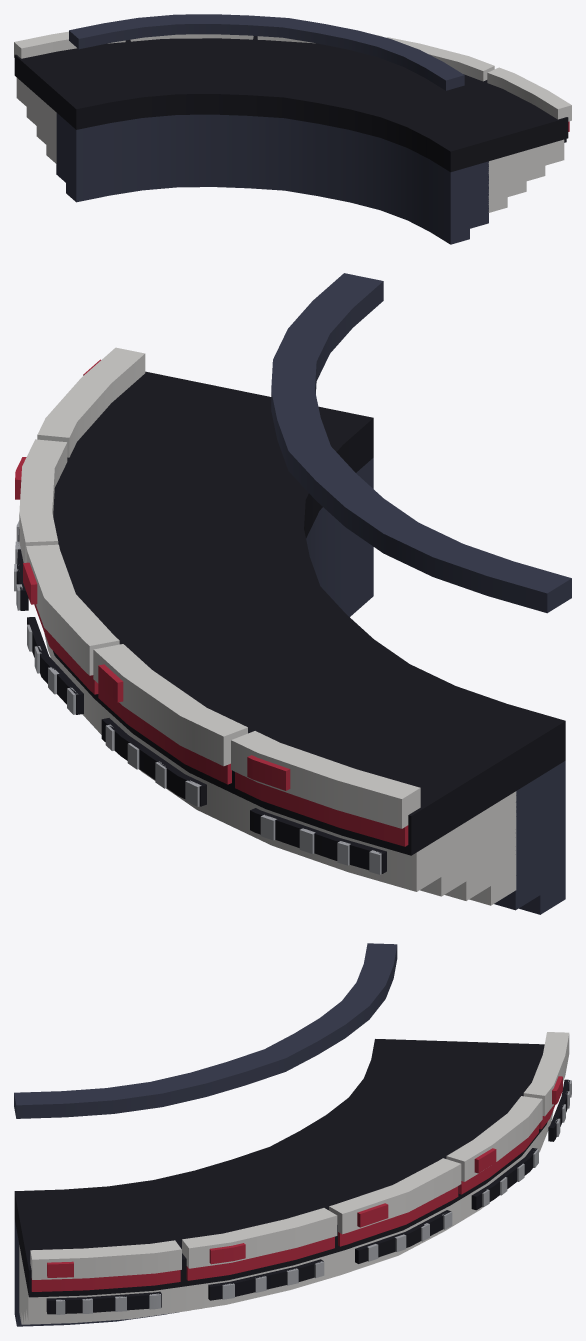
File: canopy.arc3.deck.cut.glb
3 renders of one model, top to bottom at view 1: azimuth 30°, elevation 25°; view 2: azimuth 150°, elevation 25°; view 3: azimuth 270°, elevation 25°, orthographic. The views are drawn at different scales.
Visible parts, largest first — view 1: canopy.arc3.deck.cut; view 2: canopy.arc3.deck.cut; view 3: canopy.arc3.deck.cut.
Boxes of the visible parts, bbox=[...] form: canopy.arc3.deck.cut: bbox=[14, 14, 571, 244]; canopy.arc3.deck.cut: bbox=[14, 273, 571, 914]; canopy.arc3.deck.cut: bbox=[14, 943, 571, 1326].
Bounding box in the file's own units: 4.65 × 2 × 4.64.
